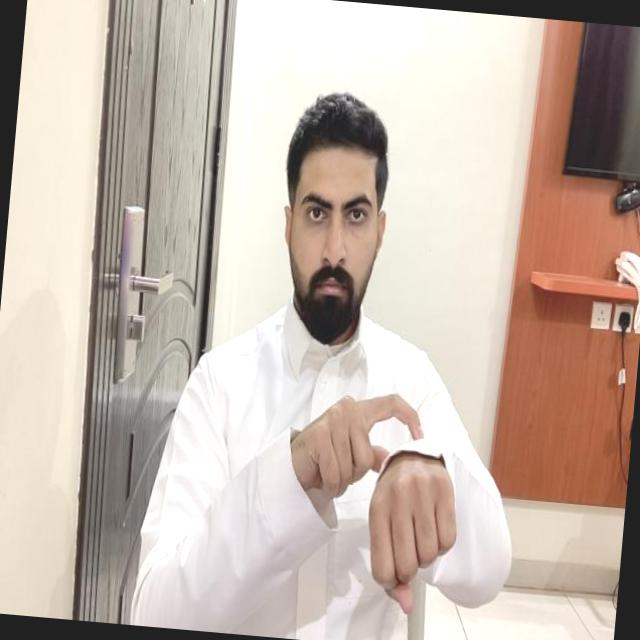appointment: (274, 381, 470, 620)
